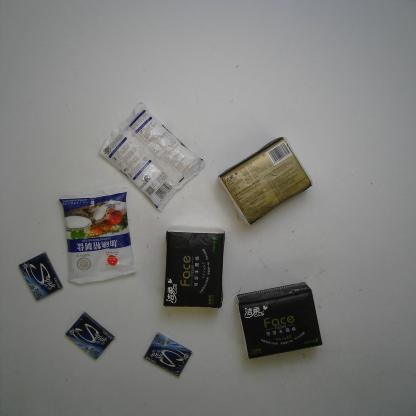Gum: (64, 310, 117, 360), (141, 332, 194, 376), (19, 251, 64, 302)
Seasoner: (99, 101, 205, 212), (58, 185, 137, 285)
Tissue: (216, 135, 314, 227), (232, 279, 324, 361), (160, 224, 226, 310)
